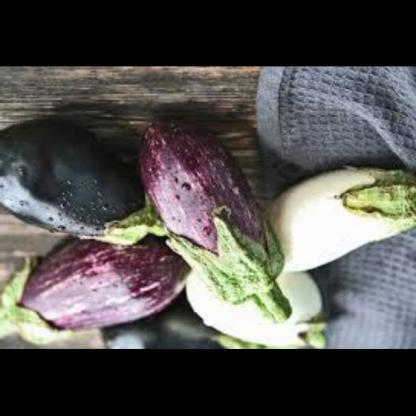eggplant: (129, 111, 318, 323), (4, 233, 212, 346), (0, 122, 174, 256)
